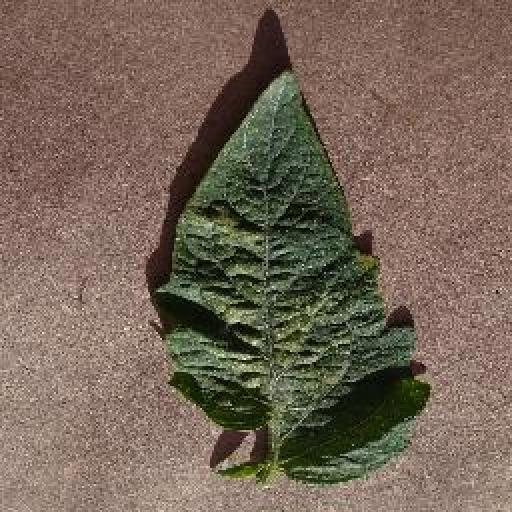disease_tomato: (155, 70, 433, 486)
